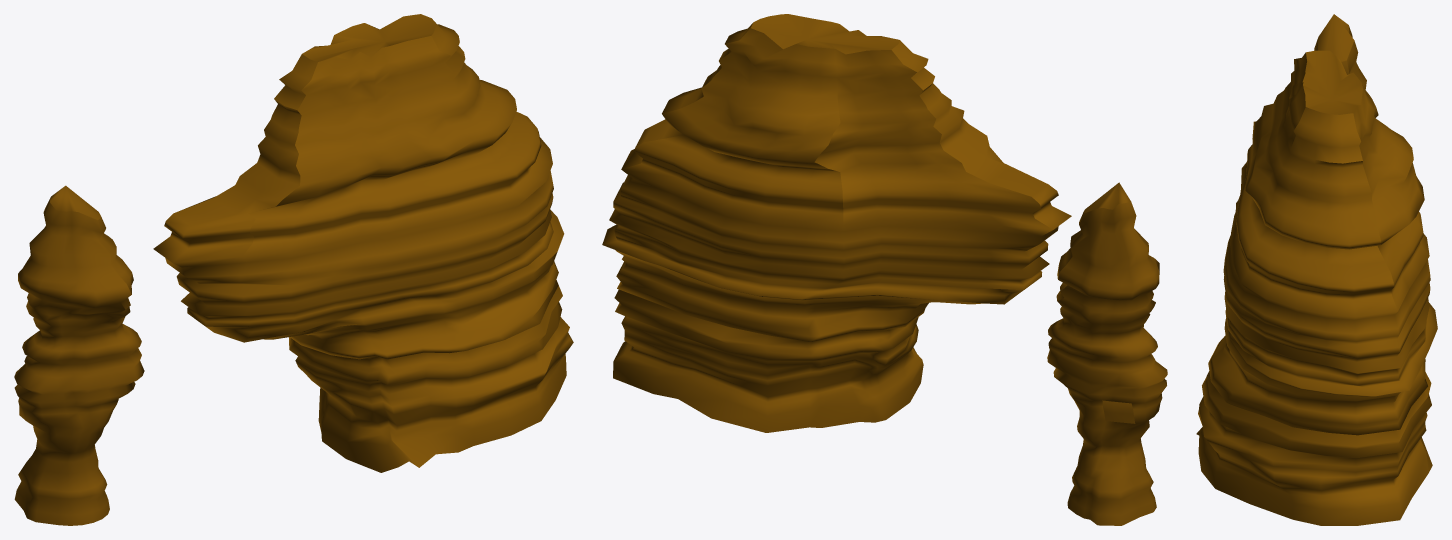
File: og_beach_cliffs.fbx
3 renders of one model, left to right at view 1: azimuth 30°, elevation 25°; view 2: azimuth 150°, elevation 25°; view 3: azimuth 270°, elevation 25°, orthographic. The views are drawn at different scales.
Parts seen in each view (by area): view 1: HillRock, WaterRock; view 2: HillRock, WaterRock; view 3: HillRock, WaterRock.
Boxes of the visible parts, bbox=[...] form: HillRock: bbox=[153, 14, 573, 472]; WaterRock: bbox=[14, 185, 144, 525]; HillRock: bbox=[602, 14, 1071, 432]; WaterRock: bbox=[1047, 182, 1167, 525]; HillRock: bbox=[1196, 50, 1437, 525]; WaterRock: bbox=[1314, 14, 1378, 117].
Bounding box in the file's own units: 91.86 × 64.61 × 36.64.
